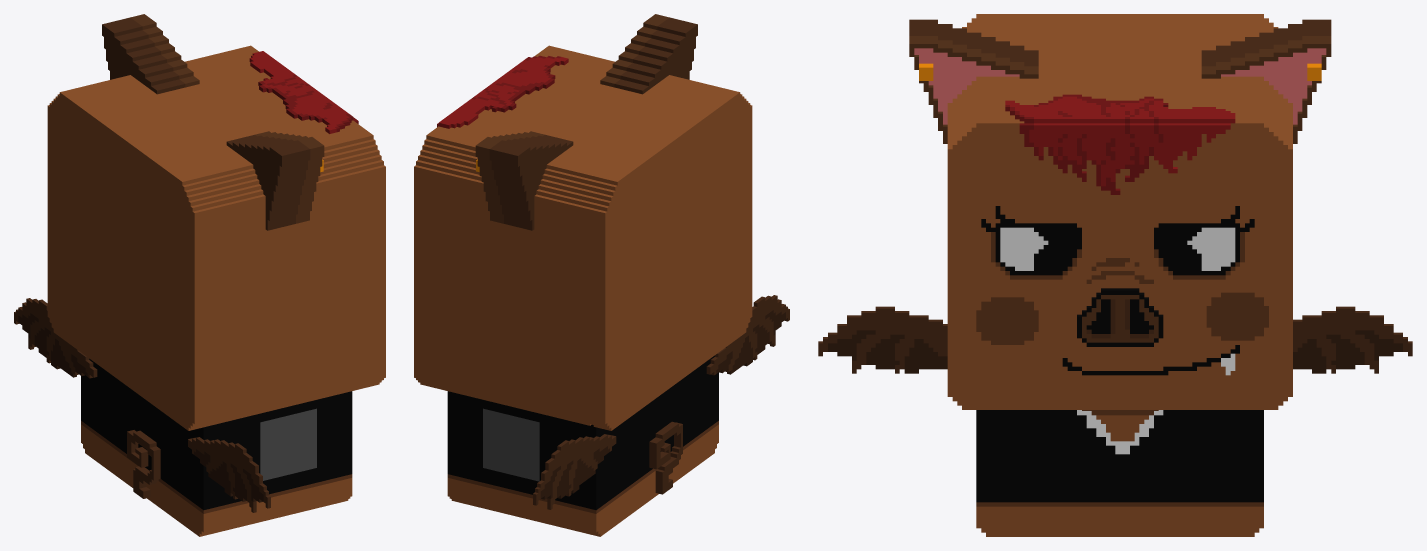
Rendered from NPC_6.obj.
3 views of the same model, side by side, from view 1: azimuth 30°, elevation 25°; view 2: azimuth 150°, elevation 25°; view 3: azimuth 270°, elevation 25° (orthographic). The views are drawn at different scales.
Bounding box in the file's own units: 5.5 × 10.6 × 12.4.
